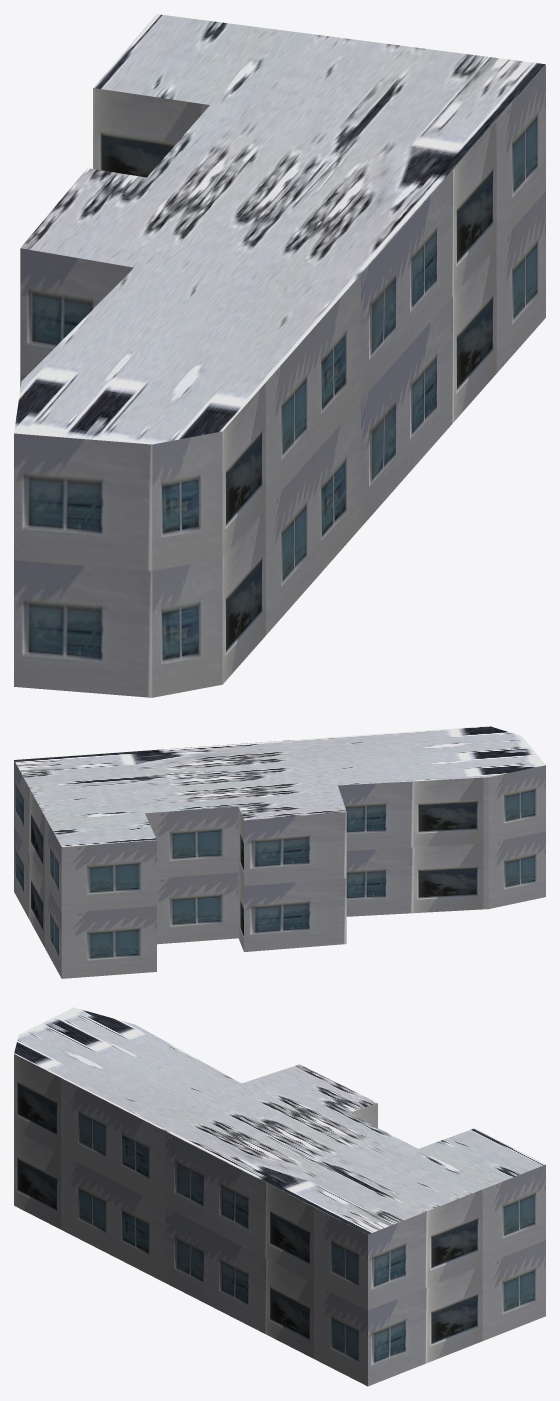
Rendered from ResTex__12.fbx.
3 views of the same model, one above another, from view 1: azimuth 30°, elevation 25°; view 2: azimuth 150°, elevation 25°; view 3: azimuth 270°, elevation 25° (orthographic). The views are drawn at different scales.
Visible parts, largest first — view 1: CityEngineMaterial_10_m, CityEngineMaterial_4_m; view 2: CityEngineMaterial_10_m, CityEngineMaterial_4_m; view 3: CityEngineMaterial_10_m, CityEngineMaterial_4_m.
Boxes of the visible parts, <box> form: CityEngineMaterial_10_m: <box>14,64,545,697</box>; CityEngineMaterial_4_m: <box>14,14,545,444</box>; CityEngineMaterial_10_m: <box>14,760,545,978</box>; CityEngineMaterial_4_m: <box>14,726,545,846</box>; CityEngineMaterial_10_m: <box>14,1054,545,1386</box>; CityEngineMaterial_4_m: <box>14,1007,545,1234</box>.
Size of the model in its own units: 19.26 by 6 by 19.06.
Materials: 2 (2 with a texture image).
